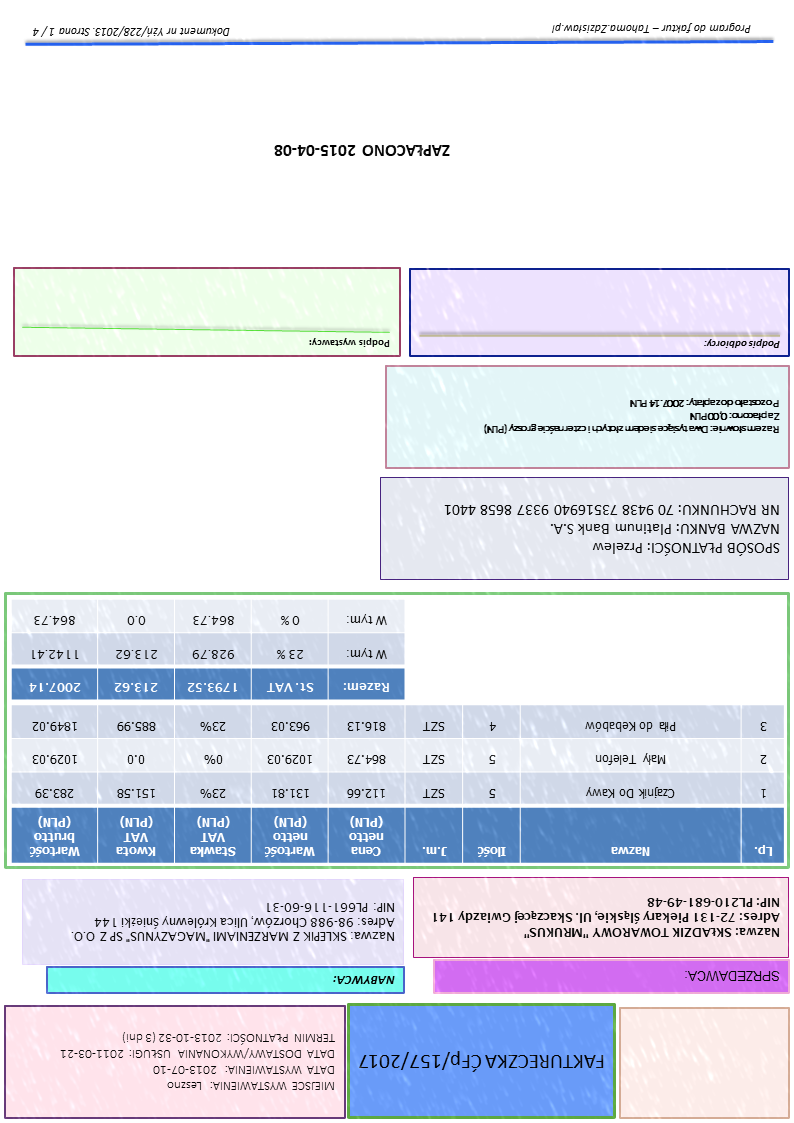Table: (13, 707, 787, 866), (9, 599, 408, 703)
TextBox: (440, 499, 786, 561), (56, 1026, 342, 1096), (431, 891, 784, 946), (68, 897, 400, 949), (478, 395, 783, 440), (356, 1047, 613, 1080), (549, 16, 758, 43), (270, 139, 459, 165), (26, 22, 233, 41), (683, 968, 786, 987), (701, 333, 784, 356), (307, 334, 399, 353), (333, 970, 399, 990)
